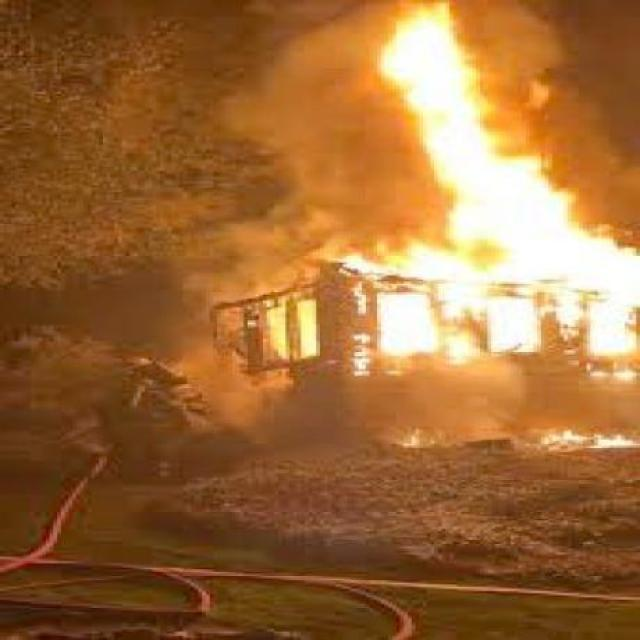Fire: (353, 245, 640, 355), (388, 6, 496, 164), (443, 163, 608, 250)
Smoke: (220, 0, 380, 251), (491, 4, 590, 143), (566, 124, 640, 208)
